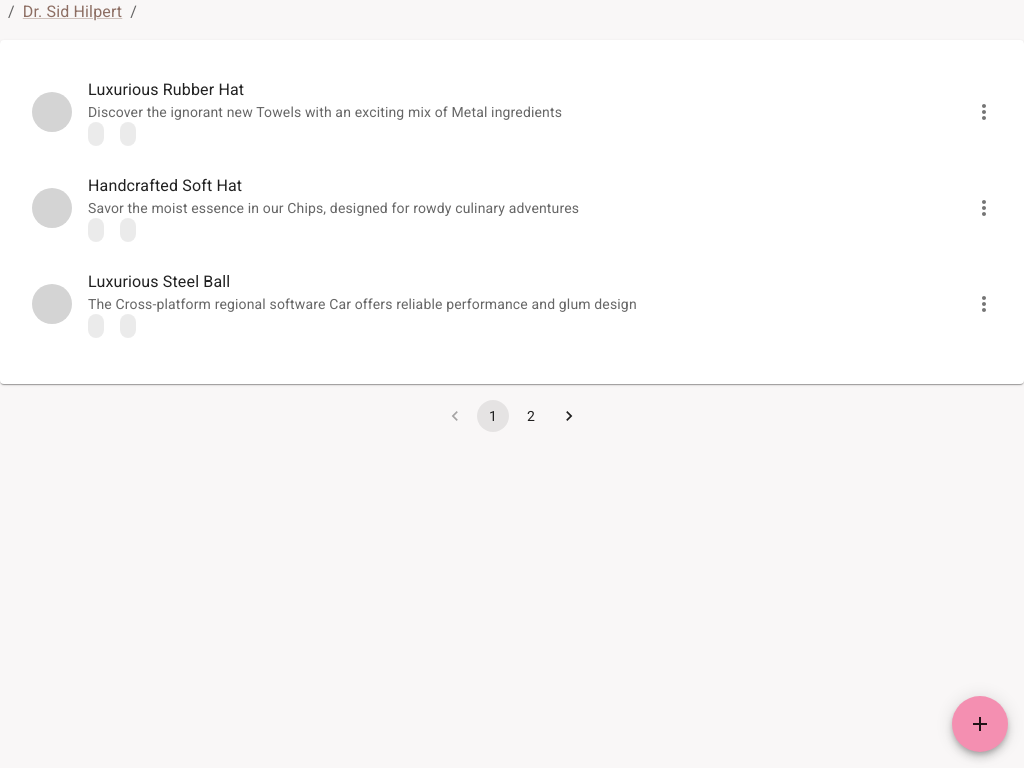
Scenario: With the logged-in user › With items › Opening a context menu › Deleting an item › When deleting succeeds › Shows a success notification
Expected: the number of list items with test id "user-items__item" is 3, [16, 64, 1008, 160]; [16, 160, 1008, 256]; [16, 256, 1008, 352]
What coordinates should you click on to do the following:
click the 1st button with test id "user-items__item__context-menu"
I would click on:
 (984, 112)
Its box is [964, 92, 1004, 132].
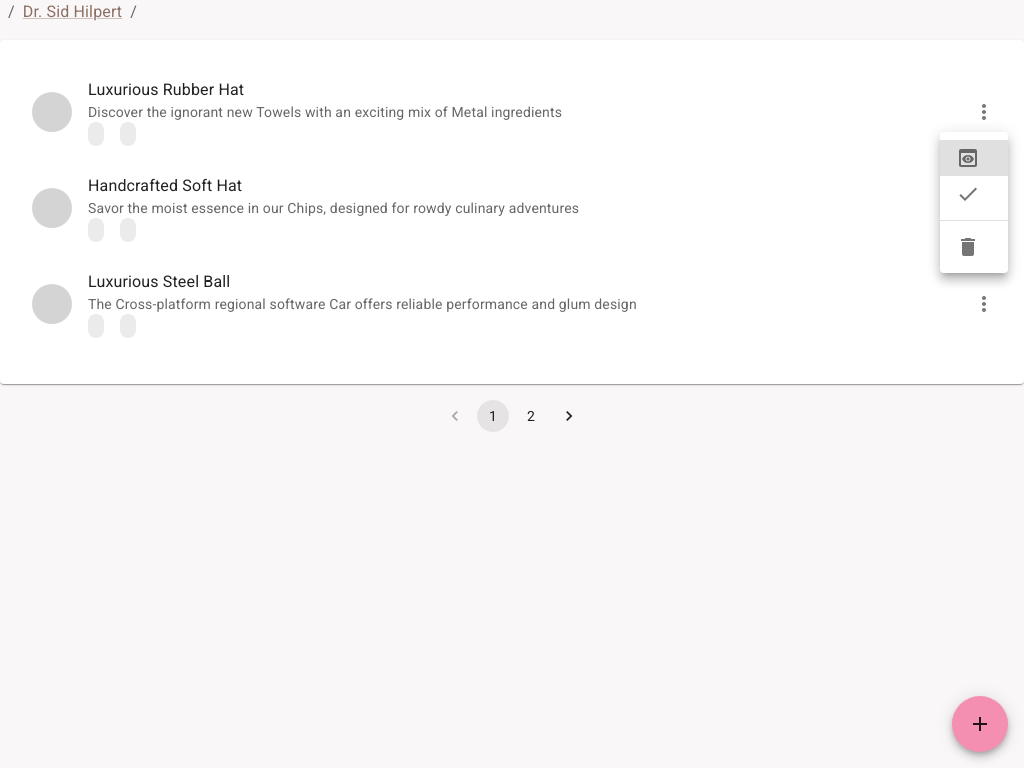
What coordinates should you click on to do the following:
click the menu item with test id "user-items__item__delete-dialog"
I would click on:
 (968, 247)
Its box is [956, 235, 980, 259].
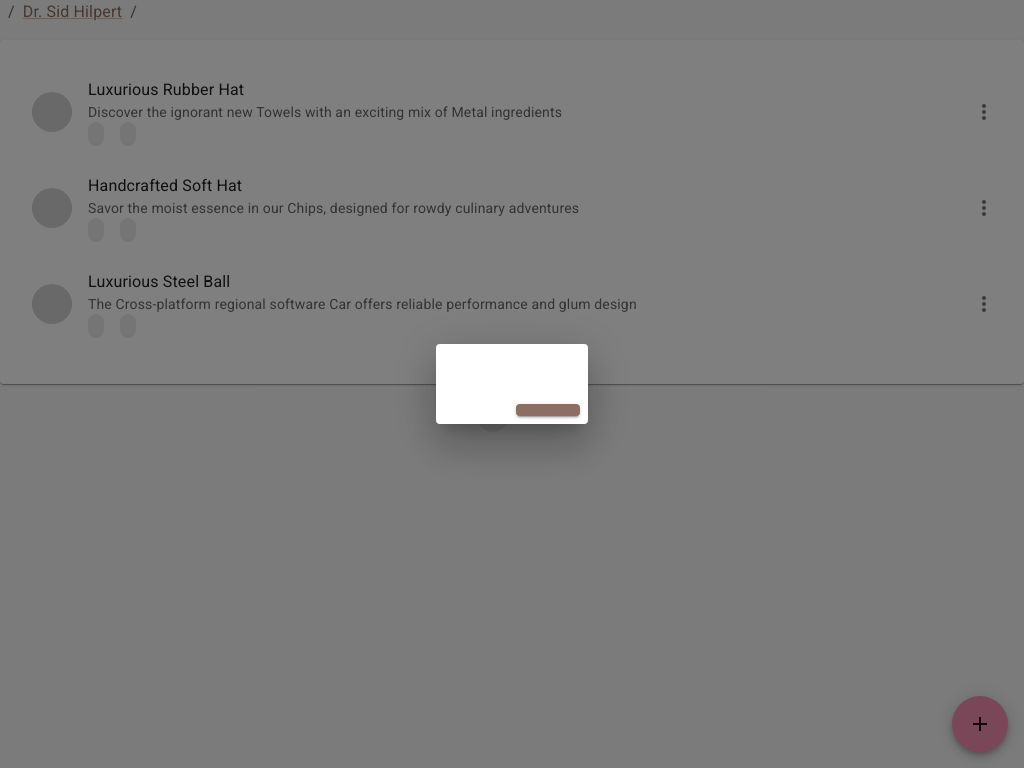
What coordinates should you click on to do the following:
click the button with test id "item__delete"
I would click on:
 (548, 410)
Its box is [516, 404, 580, 416].
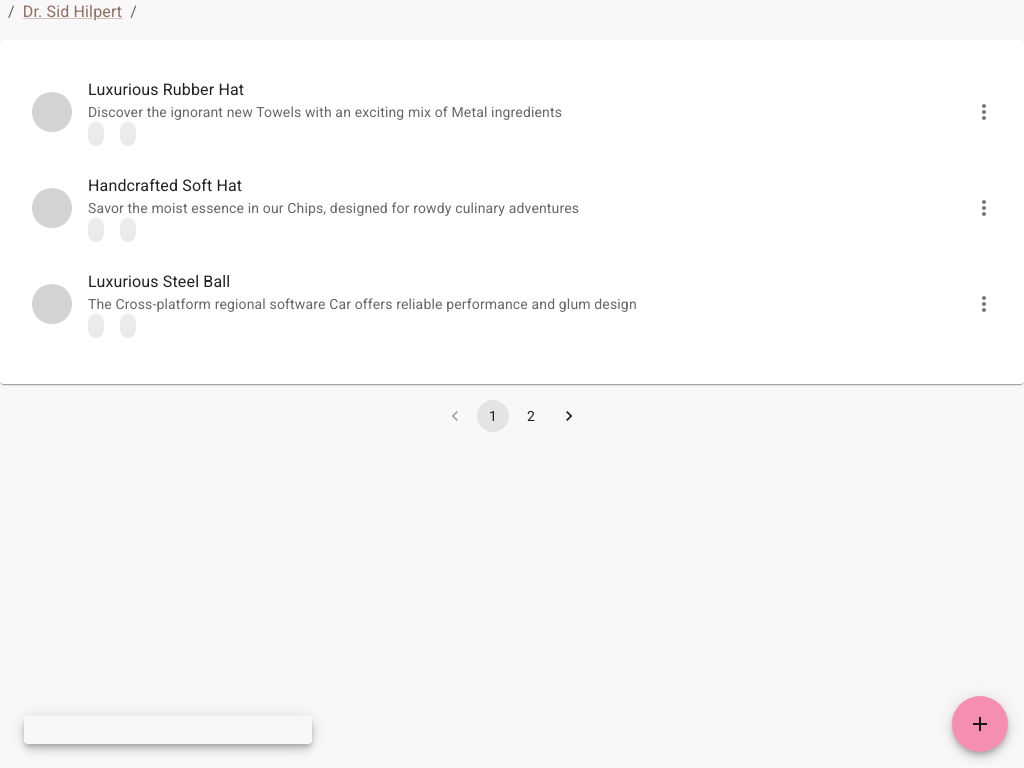
Now the element with test id "notifications__notification" is shown, box [24, 716, 312, 744]
